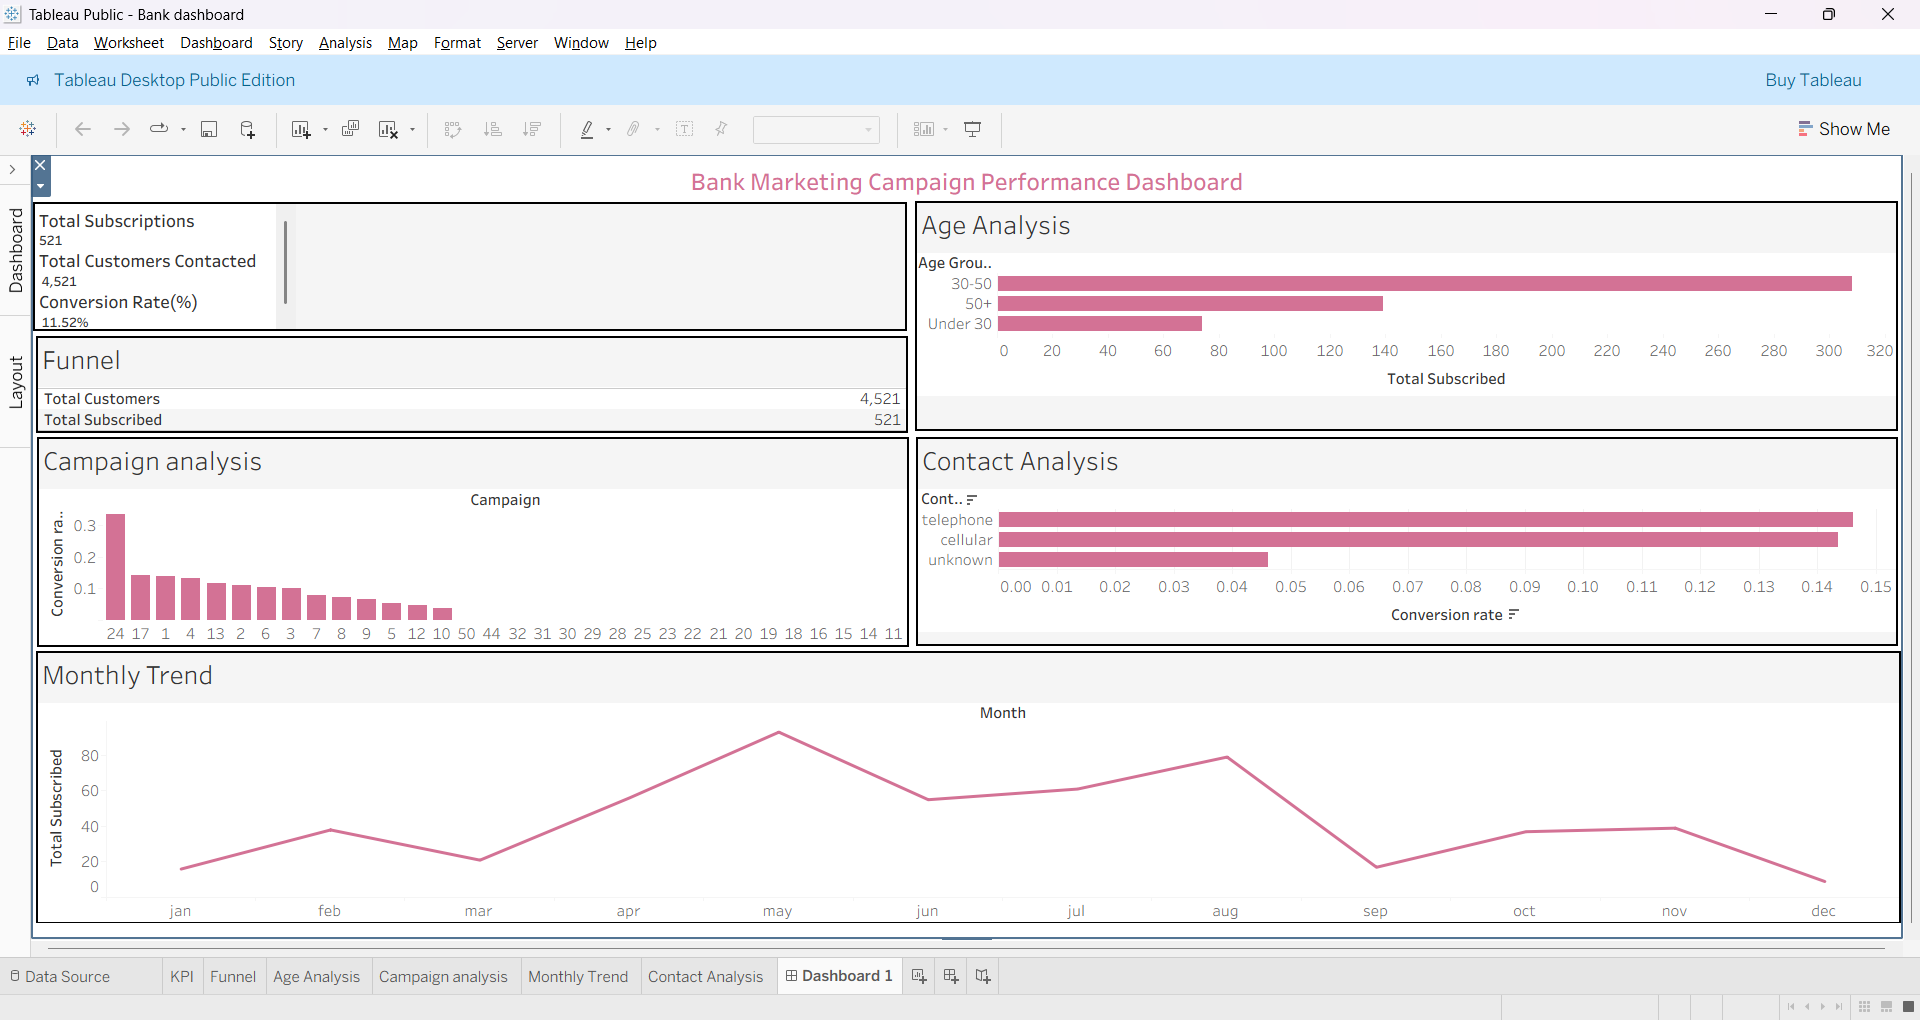

The page's visual inventory and layout, read from the dashboard file:
{"tool":"tableau","page":{"name":"Dashboard 1","canvas":[1000,1000],"units":"permille","ordinal":0},"visuals":[{"type":"text","box":[4.3,10.2,991.5,48.4]},{"type":"worksheet","title":"Age Analysis","mark":"Bar","rows":["Calculation_1191090295562244"],"cols":["Calculation_1191090293583873"],"box":[472.2,59.9,525.1,293]},{"type":"worksheet","title":"KPI","mark":"Automatic","box":[1.2,61.2,466.7,163.8]},{"type":"worksheet","title":"Funnel","mark":"Automatic","box":[2.5,231.2,466.1,123.8]},{"type":"worksheet","title":"Campaign analysis","mark":"Bar","rows":["Calculation_1191090293829634"],"cols":["campaign"],"box":[3.1,360,466.1,267.5]},{"type":"worksheet","title":"Contact Analysis","mark":"Automatic","rows":["contact"],"cols":["Calculation_1191090293829634"],"box":[472.8,360.5,524.6,266.2]},{"type":"worksheet","title":"Monthly Trend","mark":"Line","rows":["Calculation_1191090293583873"],"cols":["month"],"box":[2.5,632.5,996.3,347.5]}]}

Visuals, with their boxes on the dashboard's canvas, which has no fixed pixel size, in thousandths of its width and height (x1, y1, x2, y2). These are canvas units, not pixel positions in the 1920x1020 screenshot, which may show the page scaled, cropped or inside an application window:
text: locate(4, 10, 996, 59)
"Age Analysis" worksheet (Bar marks): locate(472, 60, 997, 353)
"KPI" worksheet: locate(1, 61, 468, 225)
"Funnel" worksheet: locate(2, 231, 469, 355)
"Campaign analysis" worksheet (Bar marks): locate(3, 360, 469, 628)
"Contact Analysis" worksheet: locate(473, 360, 997, 627)
"Monthly Trend" worksheet (Line marks): locate(2, 632, 999, 980)
